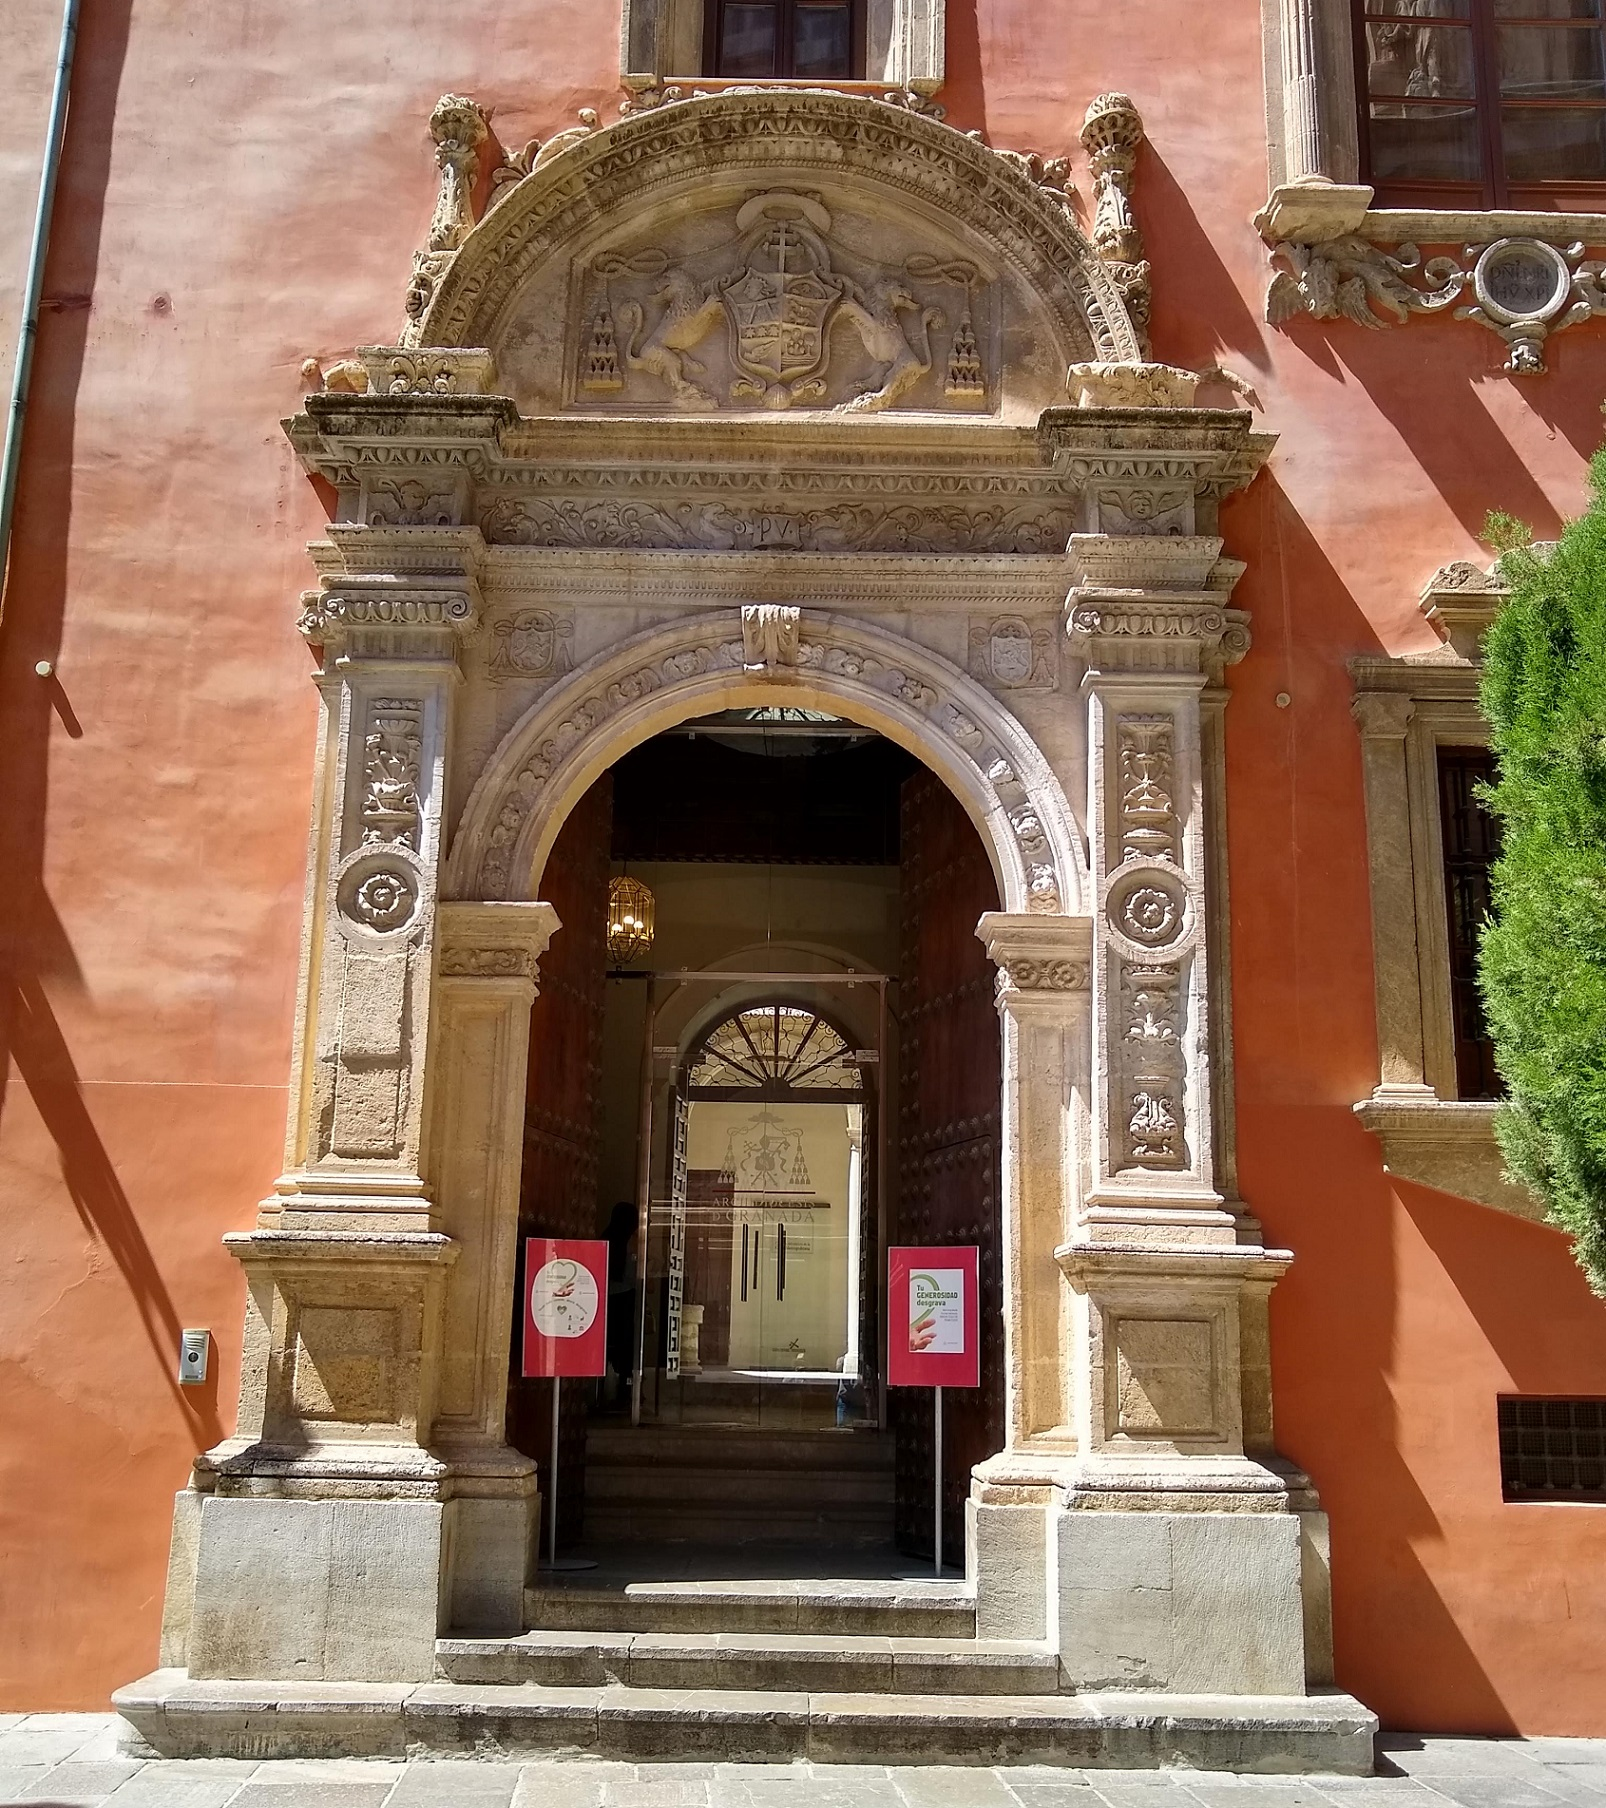arco-medio-punto: (499, 647, 1043, 1013)
